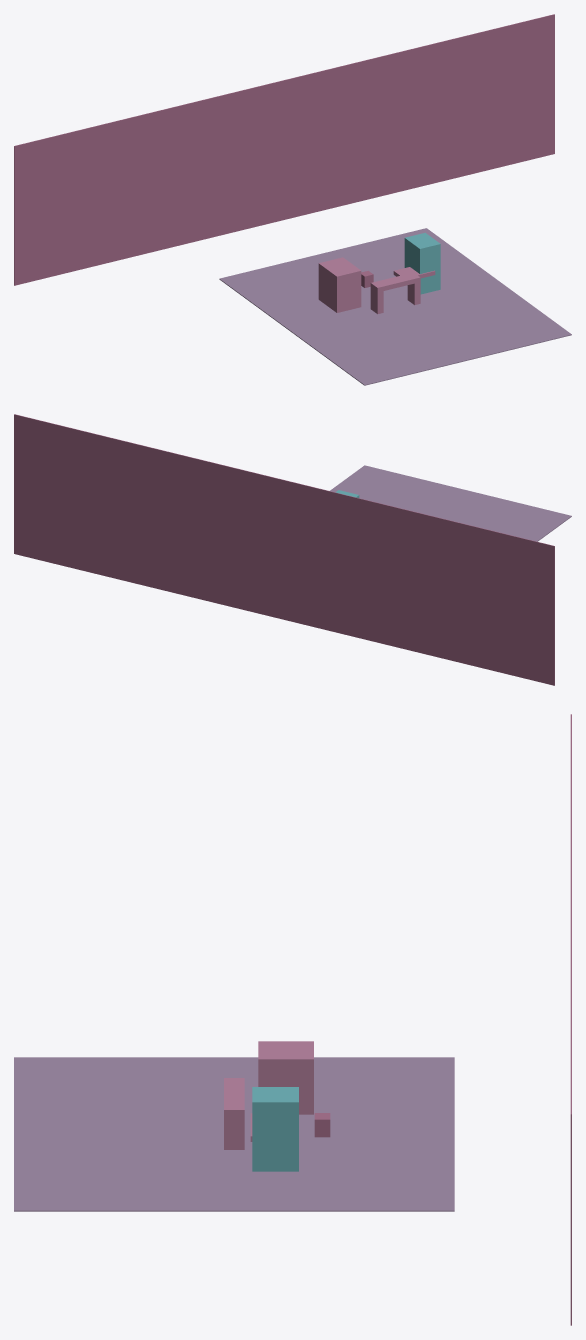
The model's file is lifecycle-arches.glb.
3 views of the same model, one above another, from view 1: azimuth 30°, elevation 25°; view 2: azimuth 150°, elevation 25°; view 3: azimuth 270°, elevation 25° (orthographic). The views are drawn at different scales.
Visible parts, largest first — view 1: Skybox far, Promenade, West Atrium, East Lantern Tower, Rose bridge deck; view 2: Skybox far, Promenade; view 3: Promenade, East Lantern Tower, West Atrium, Skybox far, Rose bridge pier east, Rose bridge deck.
Part boxes in pixels (x1=…): Skybox far: x1=14, y1=14, x2=554, y2=285; Promenade: x1=219, y1=228, x2=571, y2=385; West Atrium: x1=318, y1=257, x2=361, y2=312; East Lantern Tower: x1=404, y1=232, x2=440, y2=294; Rose bridge deck: x1=370, y1=272, x2=420, y2=290; Skybox far: x1=14, y1=414, x2=554, y2=685; Promenade: x1=330, y1=465, x2=571, y2=541; Promenade: x1=14, y1=1057, x2=454, y2=1211; East Lantern Tower: x1=252, y1=1087, x2=298, y2=1171; West Atrium: x1=258, y1=1041, x2=313, y2=1114; Skybox far: x1=570, y1=714, x2=571, y2=1325; Rose bridge pier east: x1=224, y1=1113, x2=244, y2=1149; Rose bridge deck: x1=224, y1=1078, x2=244, y2=1113.
Size of the model in its own units: 730 by 188 by 430.
